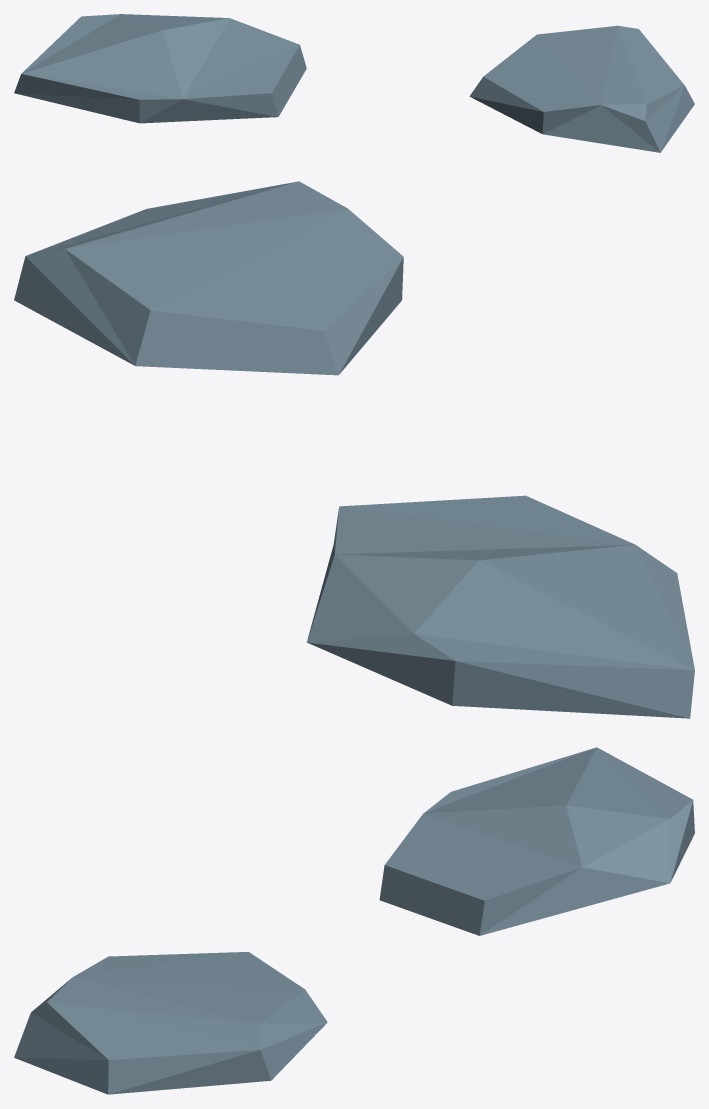
The model's file is Rockita.fbx.
The picture shows the model from 3 angles, top to bottom: view 1: azimuth 30°, elevation 25°; view 2: azimuth 150°, elevation 25°; view 3: azimuth 270°, elevation 25°; orthographic projection. The views are drawn at different scales.
Visible parts, largest first — view 1: rocks; view 2: rocks; view 3: rocks.
Boxes of the visible parts, x1,y1,x2,y2 form: rocks: [14, 14, 694, 152]; rocks: [14, 181, 694, 718]; rocks: [14, 747, 694, 1094].
Bounding box in the file's own units: 96.81 × 9.69 × 85.2.
